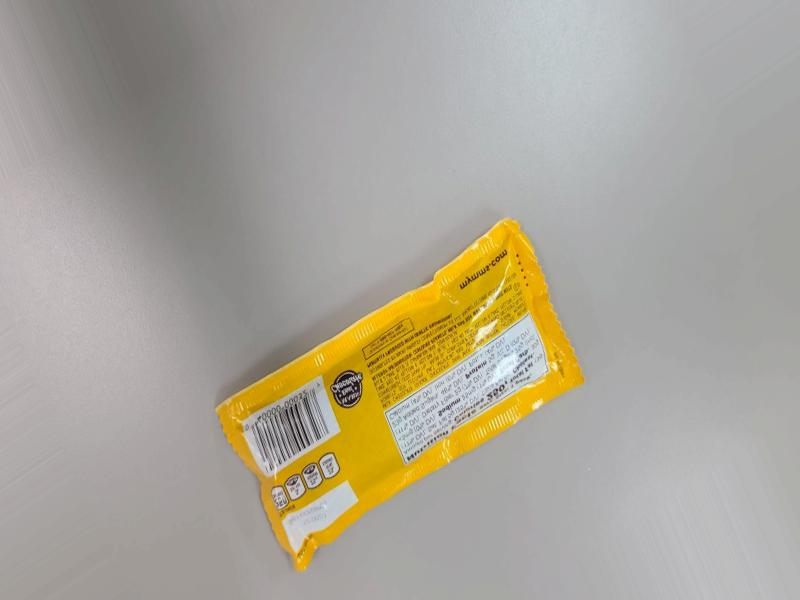m&m: (224, 193, 590, 593)
